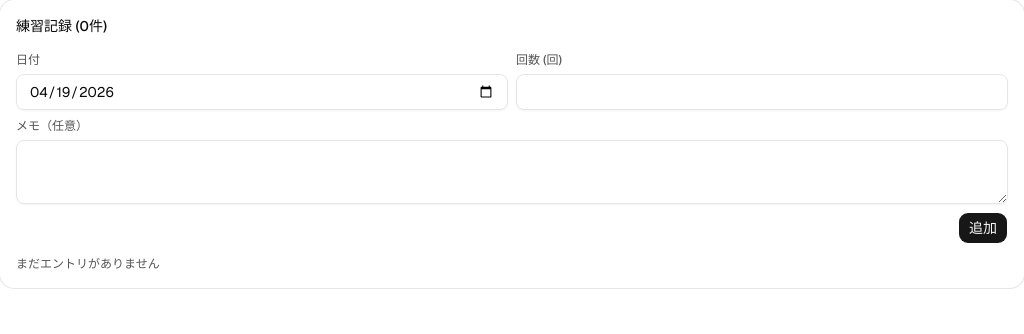
Test: MaterialPracticeLogSection › 数値 schema で空の value はクライアント側で拒否する
Click the button with test id "practice-log-add-button".
click(983, 228)  # box left=958, top=212, right=1008, bottom=244
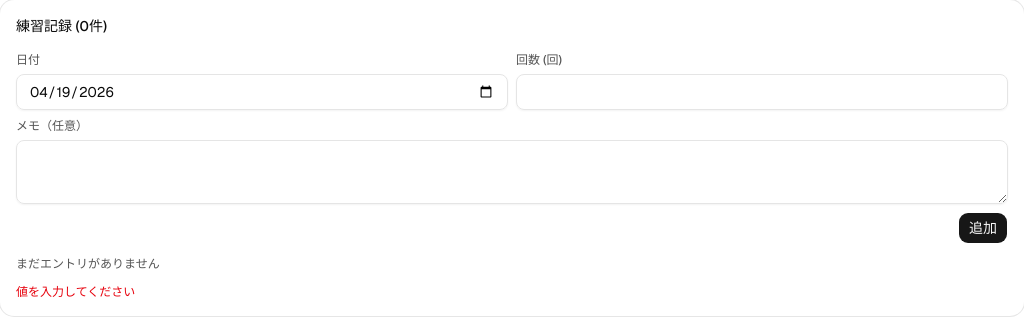
expect the text with test id "practice-log-error" reads "値を入力してください": met, box left=16, top=284, right=135, bottom=300
